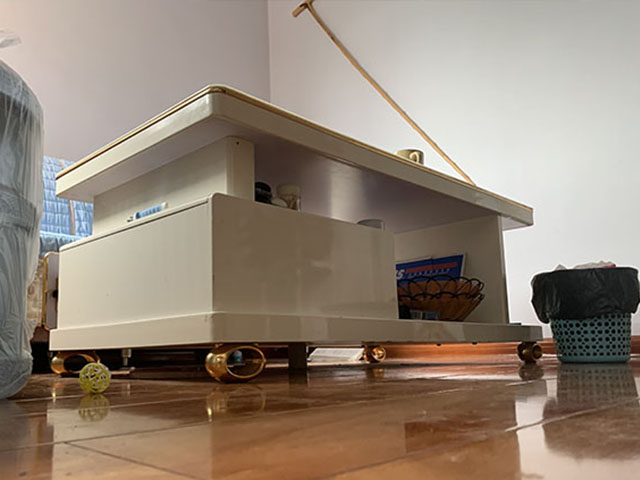table: (48, 84, 541, 382)
trashcan: (529, 259, 640, 364)
